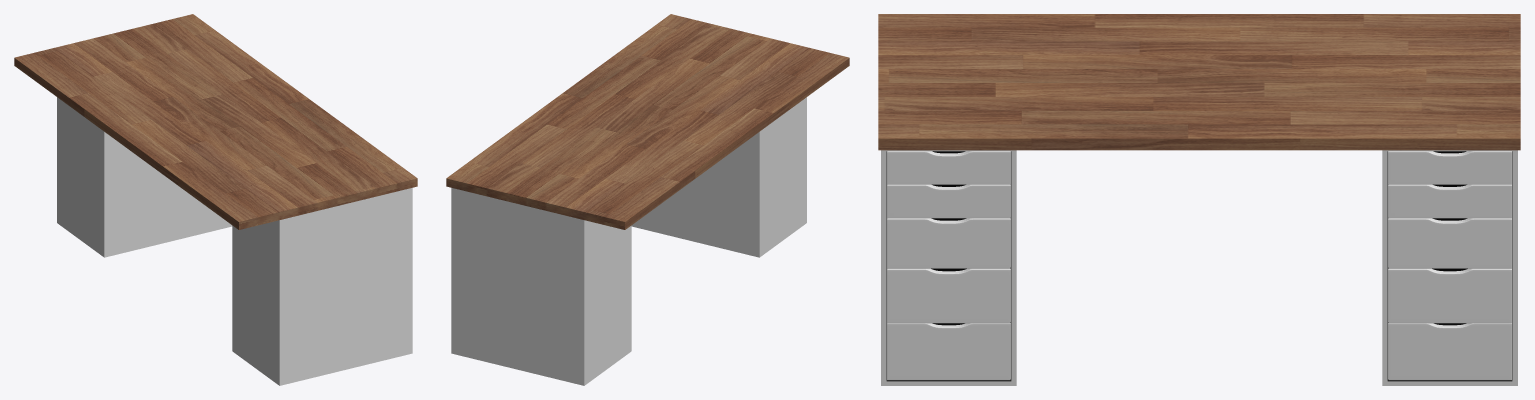
File: alex desk 67 31.glb
3 renders of one model, left to right at view 1: azimuth 30°, elevation 25°; view 2: azimuth 150°, elevation 25°; view 3: azimuth 270°, elevation 25°, orthographic. The views are drawn at different scales.
Visible parts, largest first — view 1: Cube, Plane; view 2: Cube, Plane; view 3: Plane, Cube.
Part boxes in pixels (x1,y1,x2,y2): Cube: [57, 97, 412, 385]; Plane: [14, 14, 417, 229]; Cube: [451, 97, 806, 385]; Plane: [446, 14, 849, 229]; Plane: [878, 14, 1520, 150]; Cube: [881, 150, 1517, 385].
Bounding box in the file's own units: 30.75 × 28.72 × 66.87.
3 materials, 1 textured.
